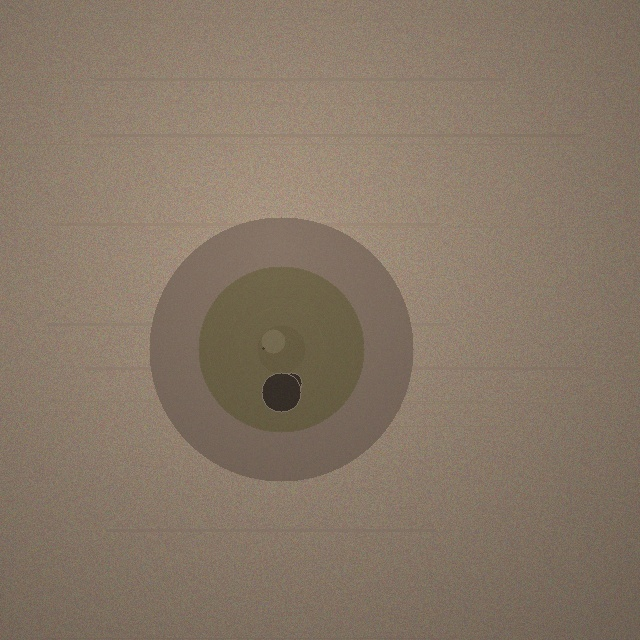shrinkage: (149, 217, 413, 481)
